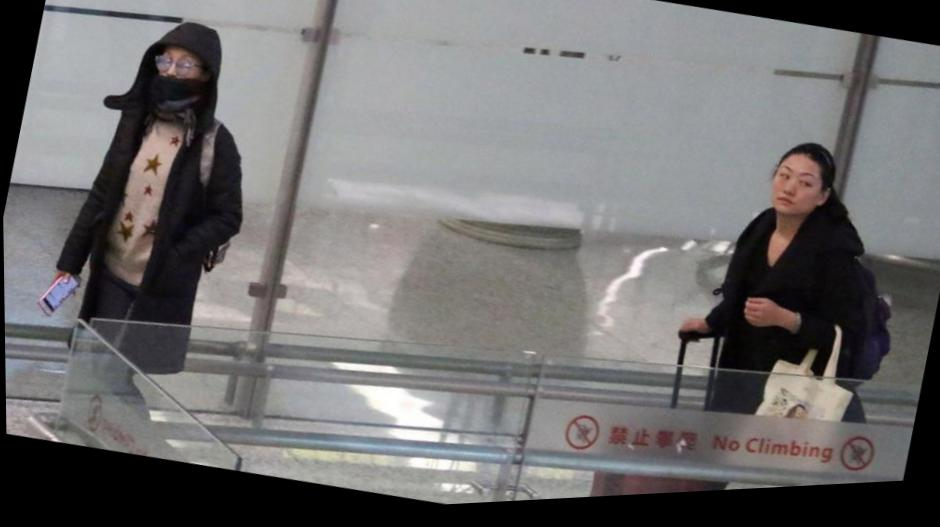NONE: (767, 165, 825, 229)
WRONG: (145, 38, 217, 109)
